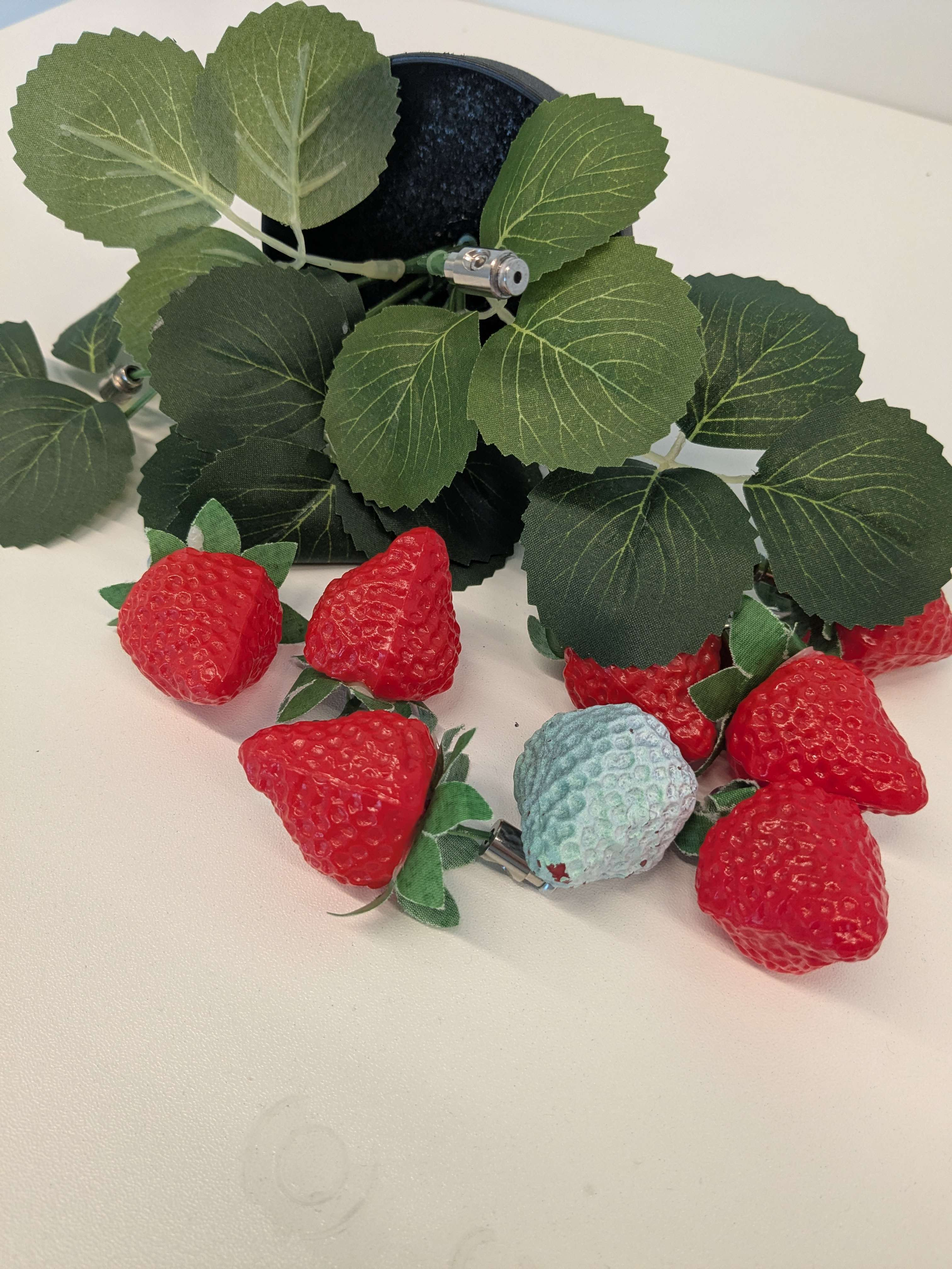Strawberry: (223, 698, 472, 914), (685, 765, 904, 993), (97, 522, 303, 723), (715, 651, 933, 839), (300, 519, 464, 708), (553, 606, 732, 760), (832, 584, 952, 678)
